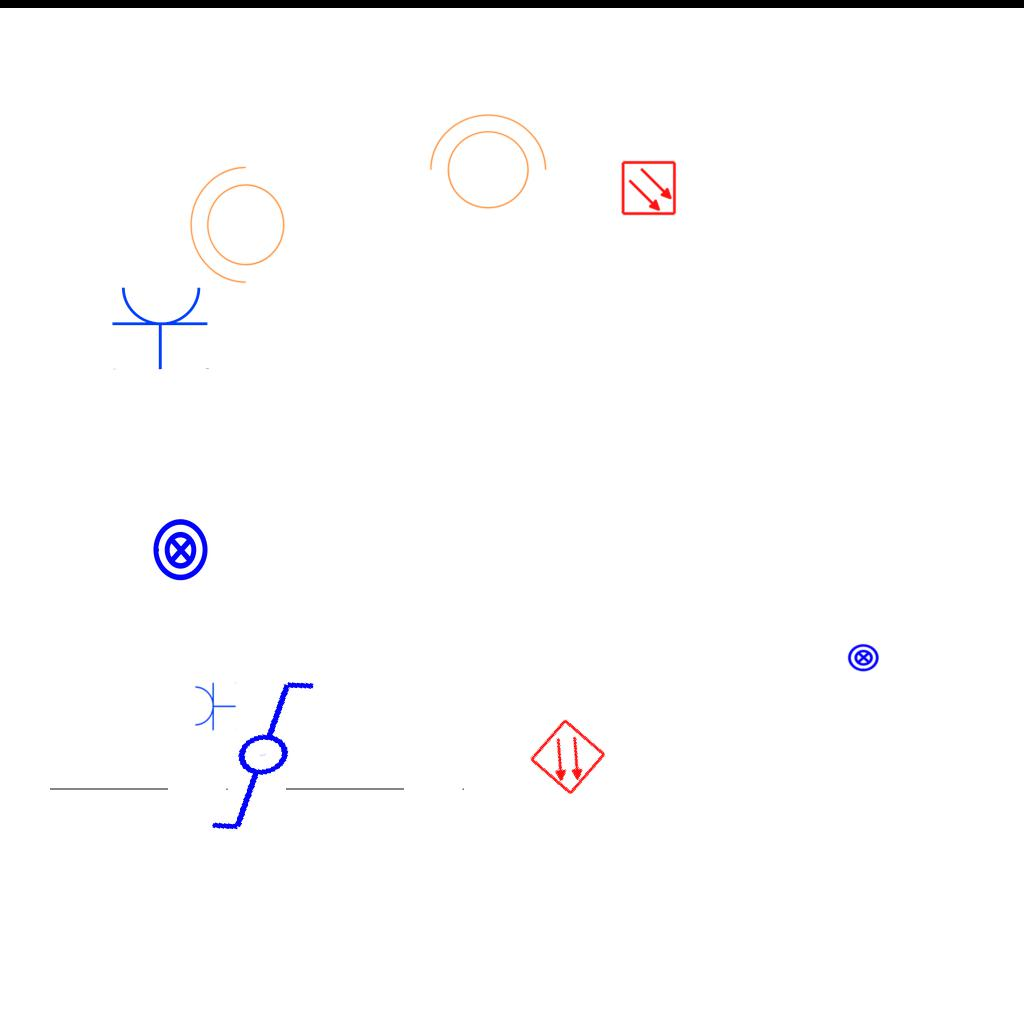RMO_Rauchmelder_optischer: (528, 717, 608, 797), (621, 160, 677, 216)
Scheinwerfer_fuer_Alarmbeleuchtung: (419, 109, 551, 221), (185, 162, 297, 294)
Schukosteckdose_einfach: (111, 283, 211, 370), (193, 681, 236, 731)
Taster_beleuchtet: (148, 517, 214, 583), (847, 641, 880, 674)
Wechselschalter: (178, 667, 365, 843)
